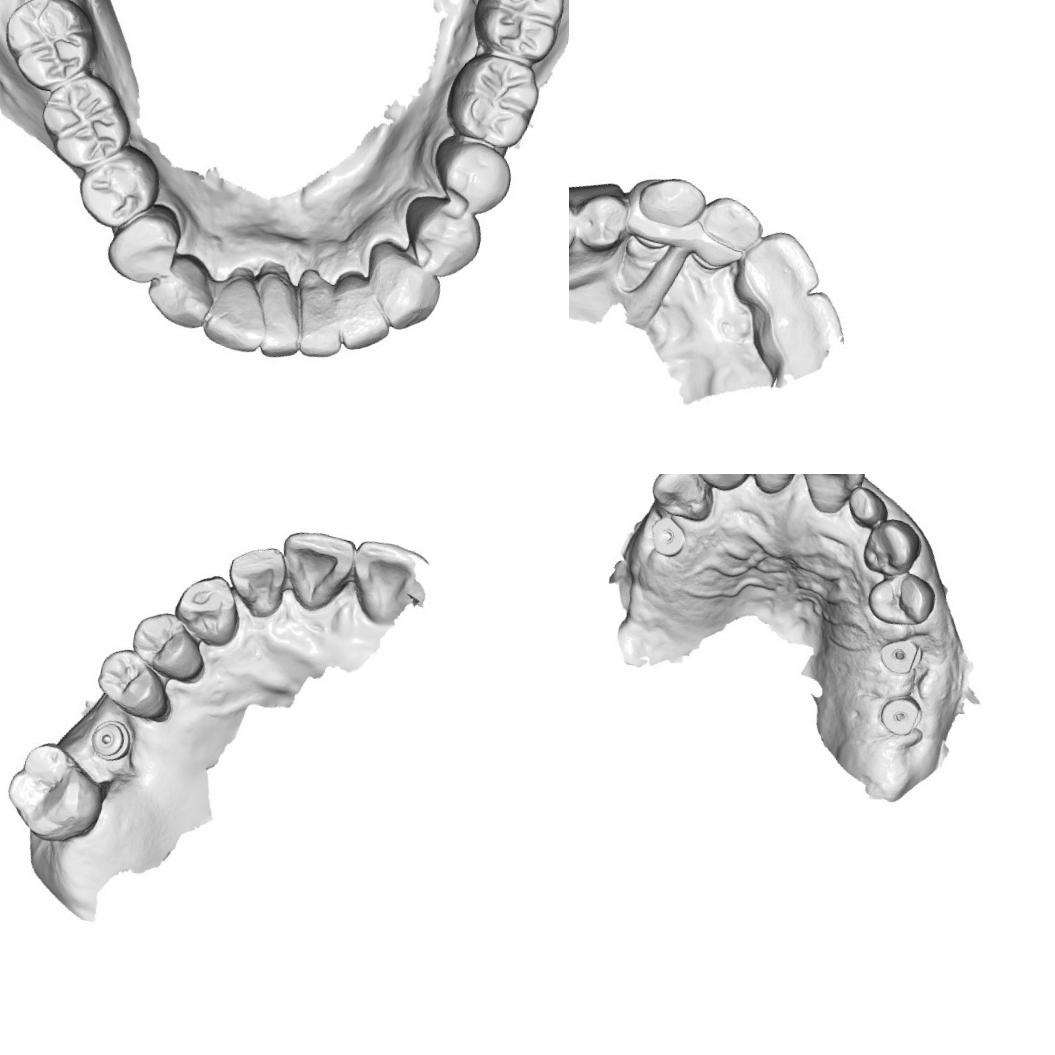canine: (357, 238, 447, 330), (144, 240, 224, 332), (166, 566, 250, 648), (630, 164, 708, 237), (858, 513, 925, 581), (644, 474, 722, 525)
implant: (75, 717, 144, 770), (873, 632, 928, 680), (876, 690, 926, 740), (648, 518, 690, 558)
incisor: (273, 526, 358, 620), (342, 534, 423, 630), (203, 260, 279, 360), (241, 258, 311, 360), (327, 270, 404, 360), (217, 534, 295, 622), (286, 266, 356, 363), (744, 226, 824, 307), (776, 287, 851, 363), (698, 188, 763, 262), (788, 474, 869, 521), (840, 482, 892, 534), (731, 474, 806, 499), (689, 474, 755, 496)
molar: (0, 735, 114, 850), (440, 42, 553, 154), (34, 68, 136, 176), (0, 0, 100, 88), (468, 0, 569, 65)
premolar: (70, 139, 161, 234), (102, 195, 192, 288), (426, 130, 520, 219), (394, 190, 486, 280), (121, 608, 212, 683), (87, 640, 172, 720), (861, 566, 940, 633), (570, 188, 636, 260)
